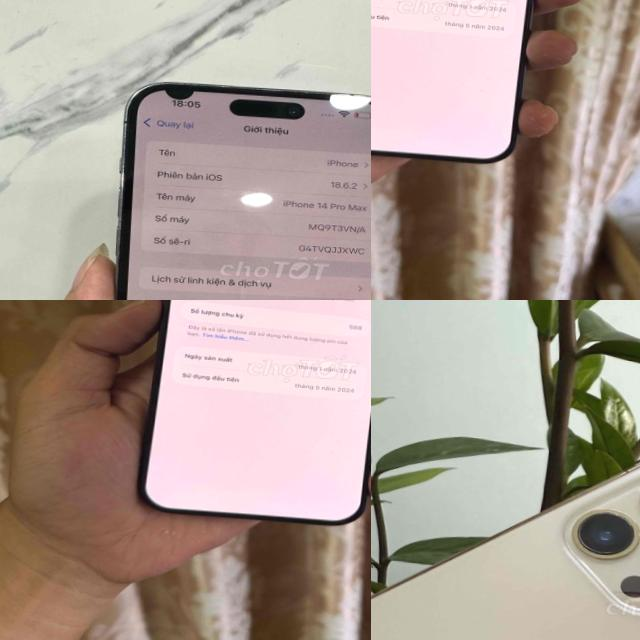gen_12_13: (371, 436, 640, 640)
gen_14: (88, 70, 371, 300)
gen_15: (137, 300, 371, 544), (371, 0, 567, 182)
